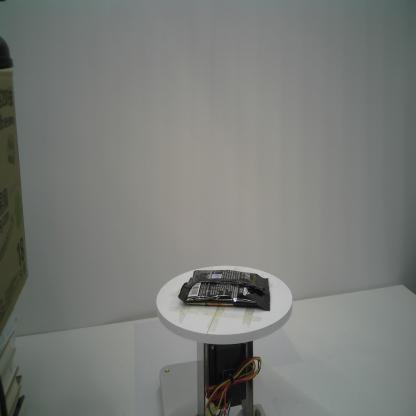Instant Drink: (178, 267, 271, 312)
